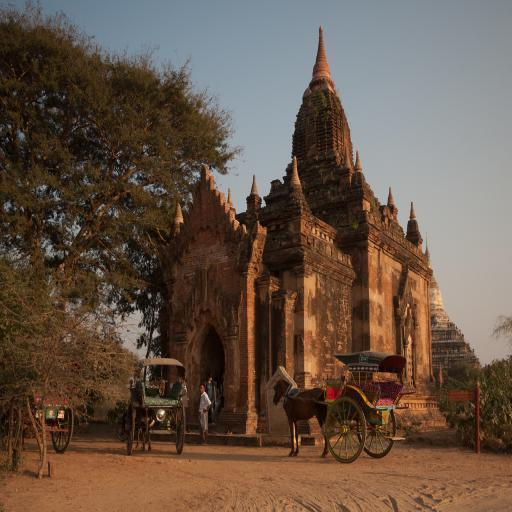horse: (270, 376, 326, 460), (134, 412, 154, 452)
